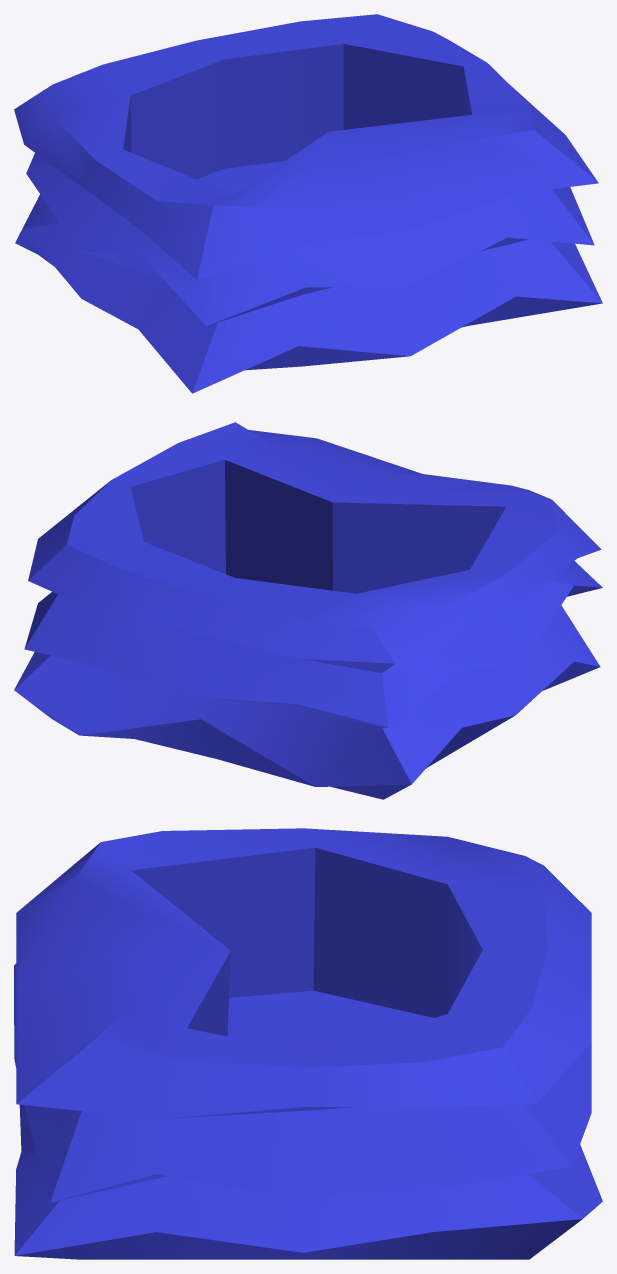
Rendered from MUDTUBE.fbx.
3 views of the same model, one above another, from view 1: azimuth 30°, elevation 25°; view 2: azimuth 150°, elevation 25°; view 3: azimuth 270°, elevation 25° (orthographic). The views are drawn at different scales.
Visible parts, largest first — view 1: Cube; view 2: Cube; view 3: Cube.
Boxes of the visible parts, bbox=[...] form: Cube: bbox=[14, 14, 602, 393]; Cube: bbox=[14, 422, 602, 799]; Cube: bbox=[14, 828, 602, 1259].
Size of the model in its own units: 112 by 43.37 by 107.
